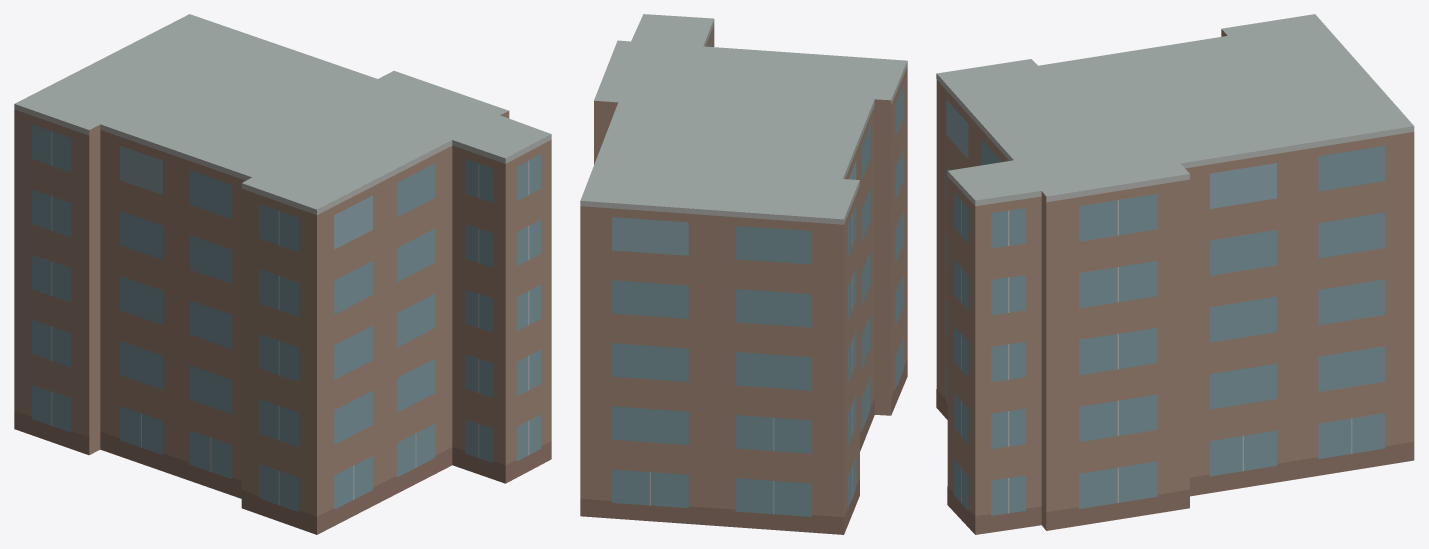
File: survey-upis-32515226.glb
The picture shows the model from 3 angles, left to right: view 1: azimuth 30°, elevation 25°; view 2: azimuth 150°, elevation 25°; view 3: azimuth 270°, elevation 25°; orthographic projection. The views are drawn at different scales.
Visible parts, largest first — view 1: survey-upis-32515226.tmp; view 2: survey-upis-32515226.tmp; view 3: survey-upis-32515226.tmp.
Boxes of the visible parts, bbox=[...] form: survey-upis-32515226.tmp: bbox=[14, 14, 551, 534]; survey-upis-32515226.tmp: bbox=[580, 14, 907, 534]; survey-upis-32515226.tmp: bbox=[936, 14, 1414, 534].
Bounding box in the file's own units: 17.25 × 14.4 × 18.66.
